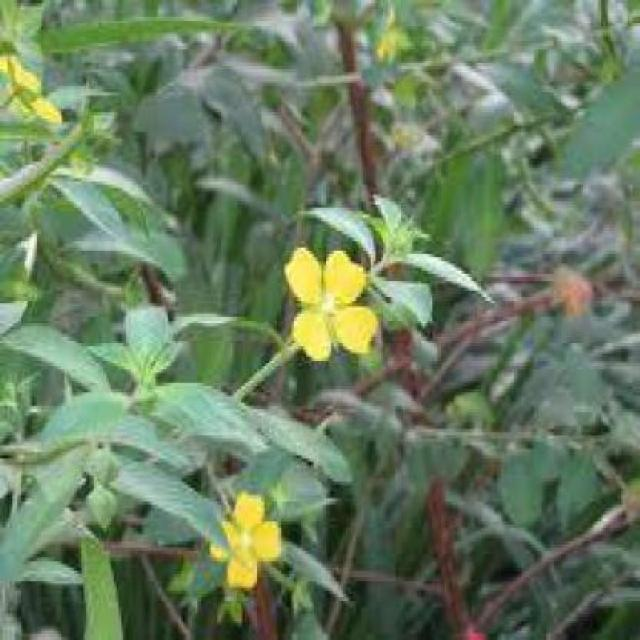flower: (278, 237, 394, 366), (213, 480, 281, 589)
